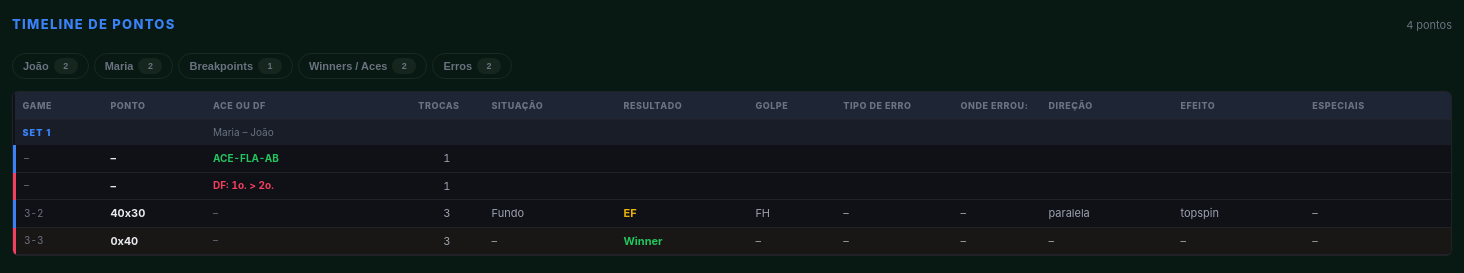
it: MatchTimelineView › Filtros › deve atualizar contagem ao filtrar
Click the button "João 2": (50, 66) x1=12 y1=52 x2=89 y2=78
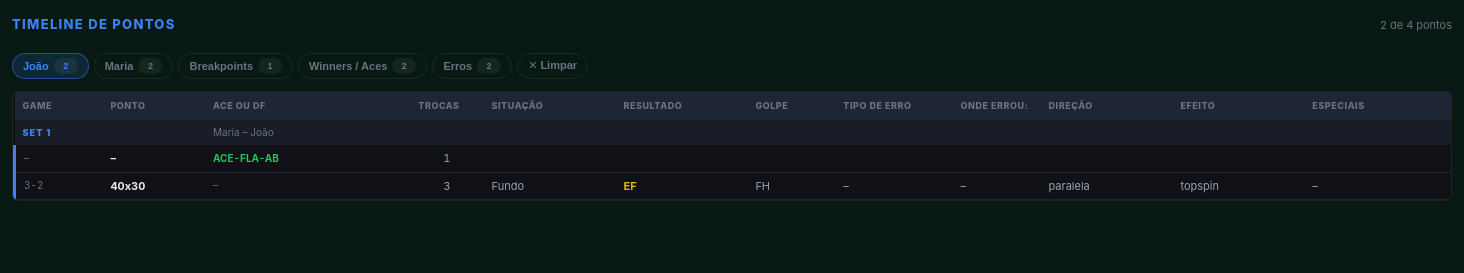
Now the text "2 de 4 pontos" is shown, box x1=1380 y1=16 x2=1452 y2=33
